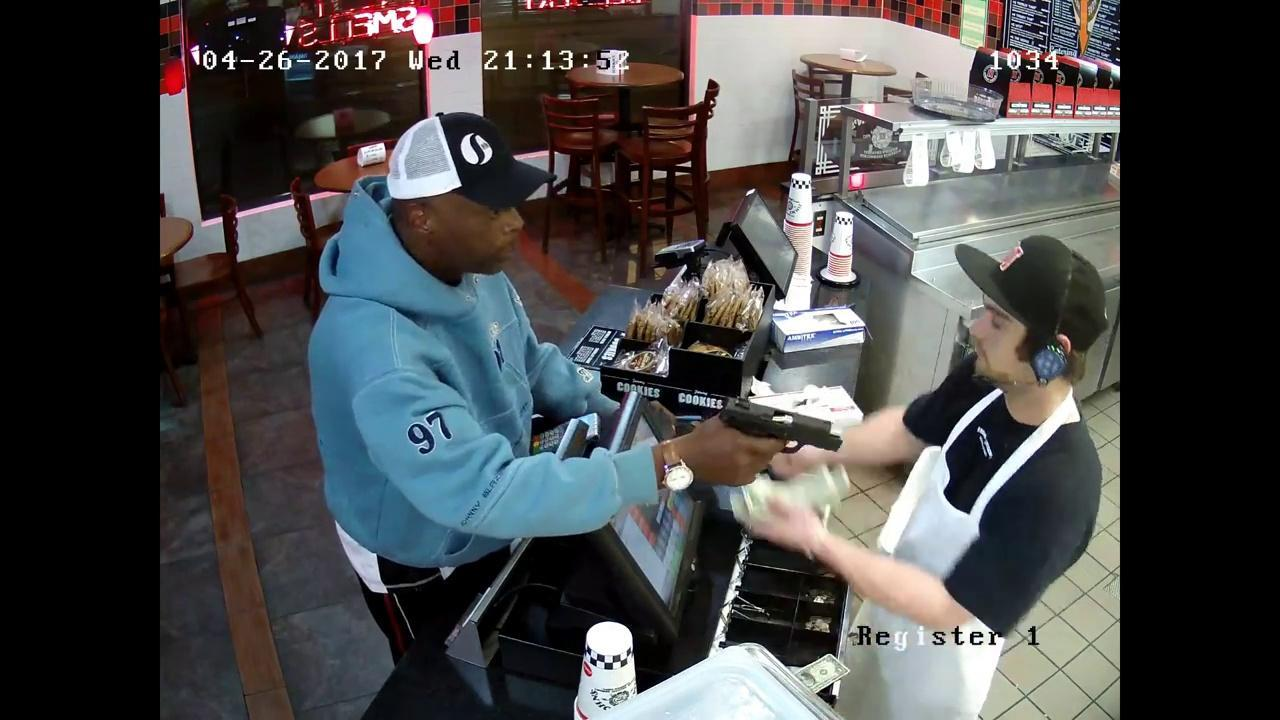Guns: (692, 373, 858, 480)
